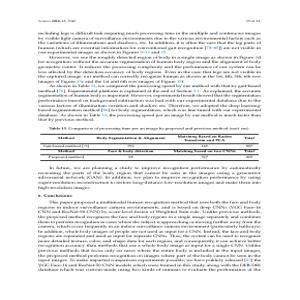table: (37, 131, 260, 162)
text: (38, 164, 262, 273), (35, 29, 261, 122)
